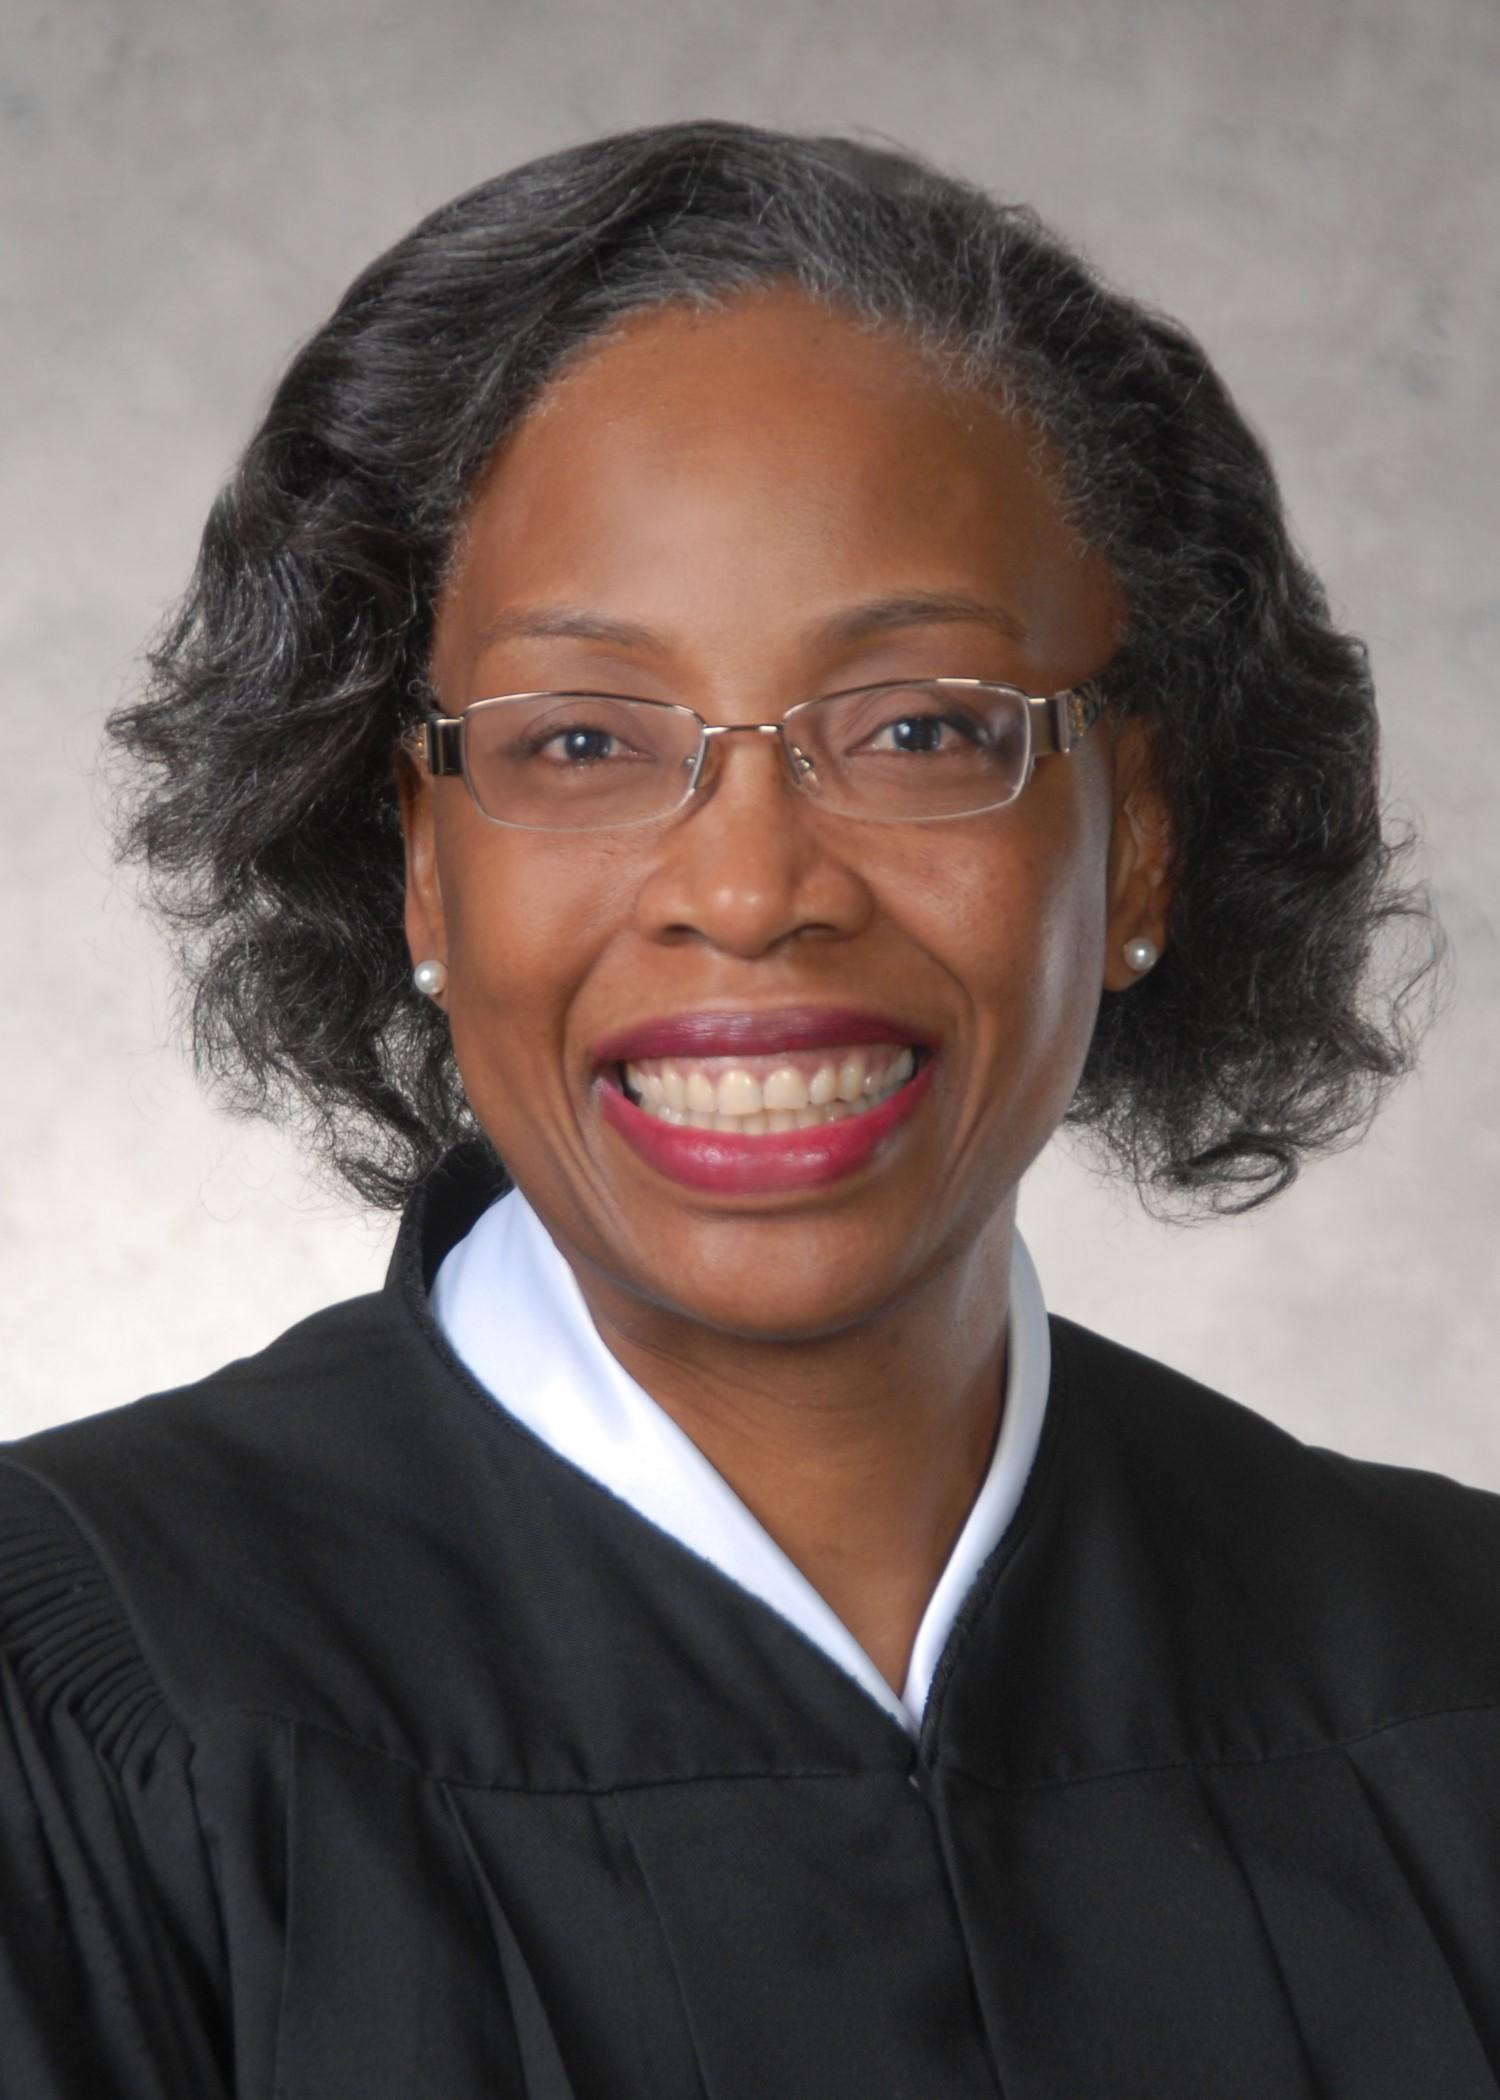bare: (406, 815, 1127, 1319)
